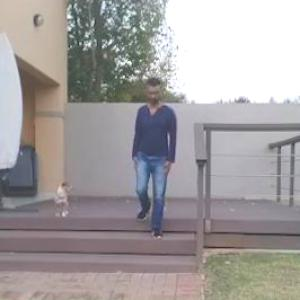follow: (135, 77, 177, 241)
